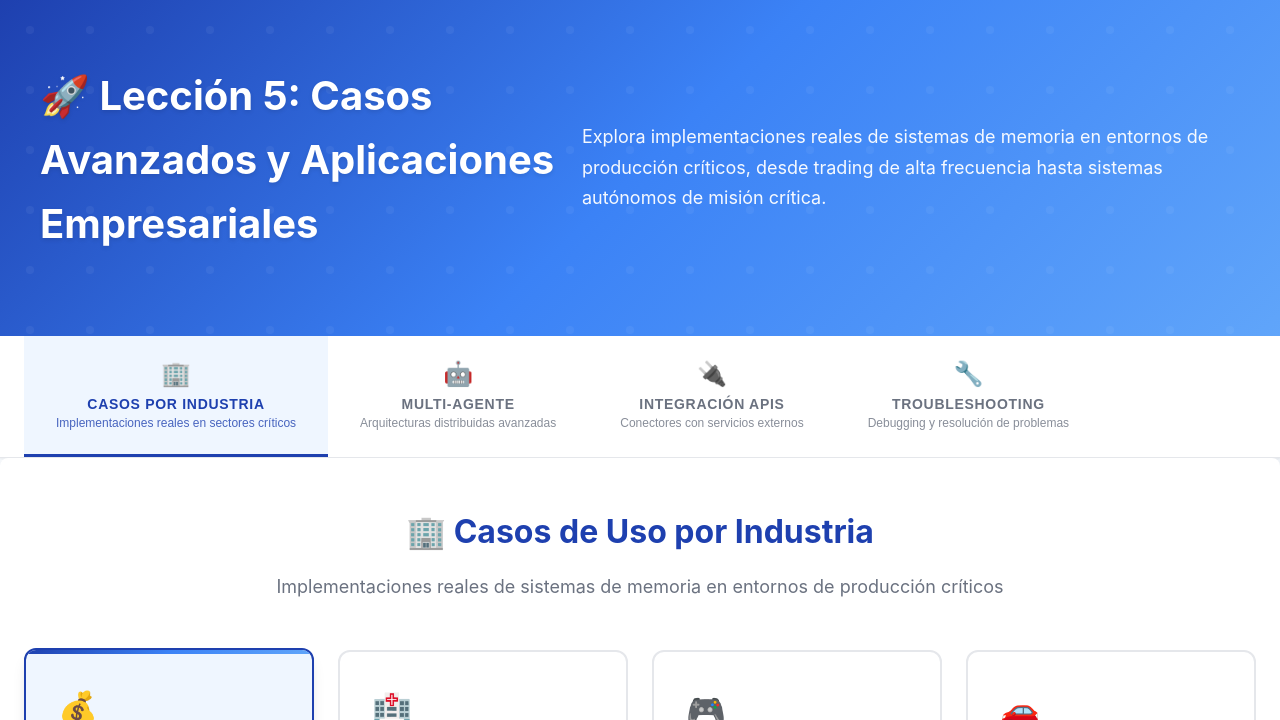
Test: Lesson05AdvancedCases › Functional Tests › logging system displays and filters correctly
Click the tab "🔧 Troubleshooting Debugging y resolución de problemas": x=968, y=396 836,336 -> 1101,457
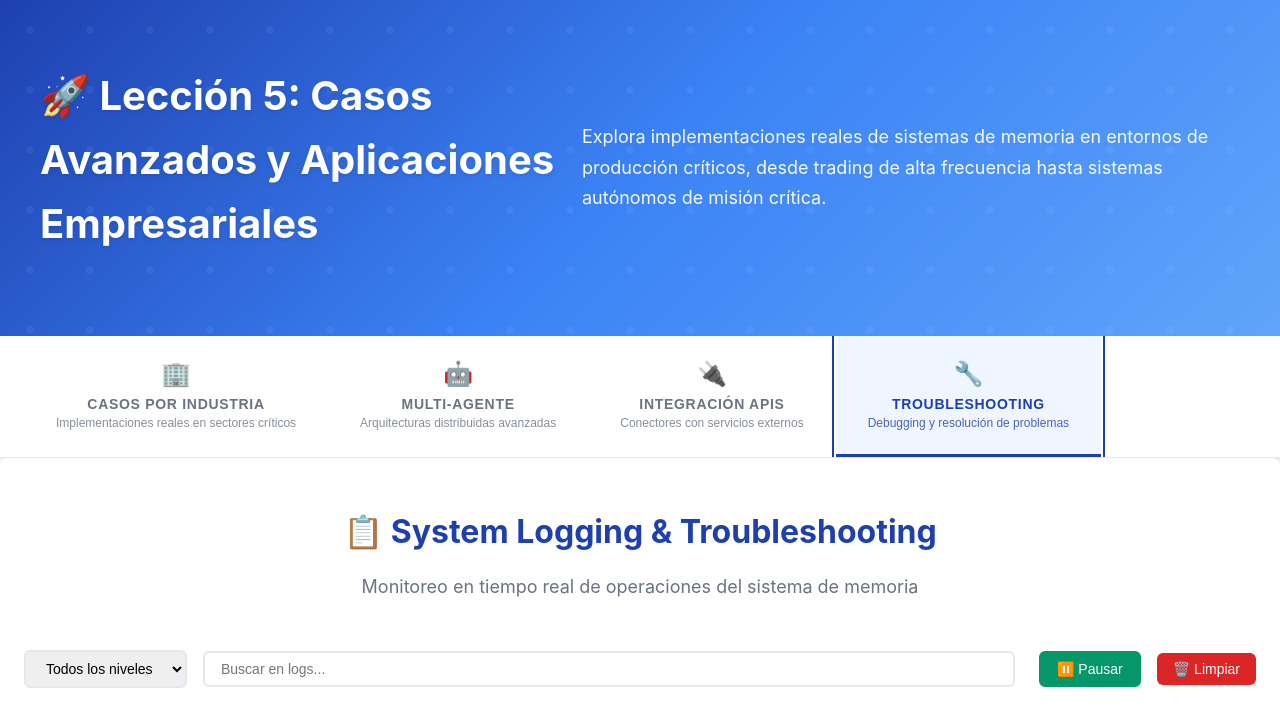
Expected: the dropdown named "filtrar logs" is shown, 24,650 -> 187,688
Expected: the field labelled "Buscar en logs..." is shown, 203,651 -> 1015,687
Expected: the button with aria-label "tiempo real" is shown, 1039,651 -> 1141,687
